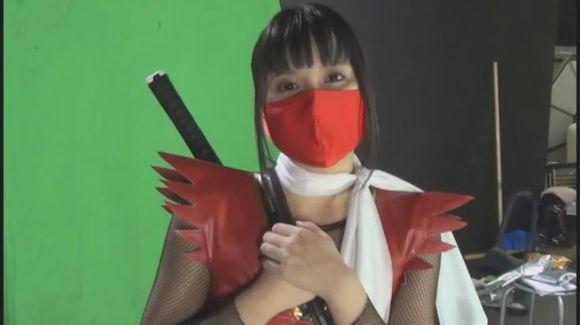OK: (266, 65, 364, 167)
